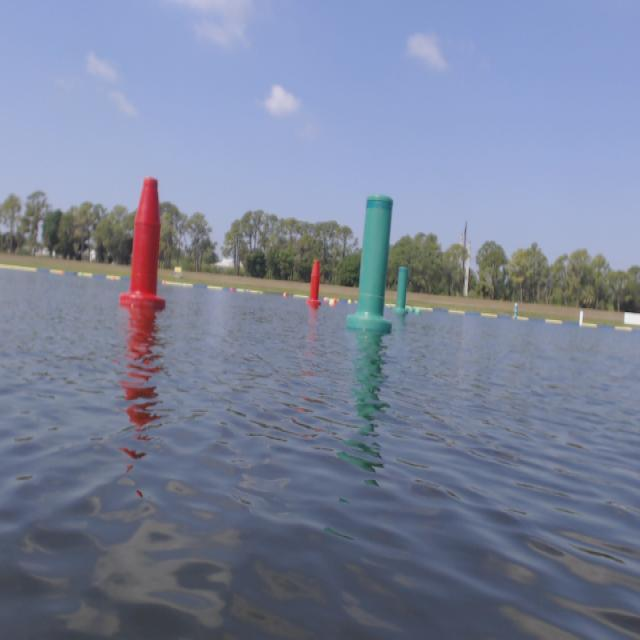Green_Buoy: (356, 190, 386, 343), (395, 263, 415, 320)
Red_Buoy: (128, 175, 170, 330), (304, 260, 328, 313)
